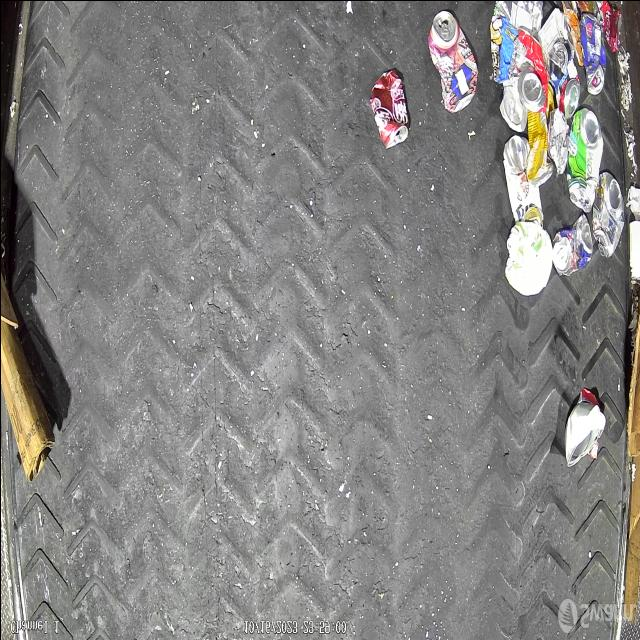can: (426, 8, 477, 112), (566, 106, 602, 212), (502, 133, 542, 227), (508, 27, 548, 112), (369, 66, 409, 148), (525, 82, 553, 186), (592, 170, 624, 256), (552, 212, 592, 276), (580, 12, 606, 94), (552, 58, 580, 118), (494, 0, 543, 32), (591, 0, 620, 53), (498, 79, 526, 131), (547, 39, 571, 78)
